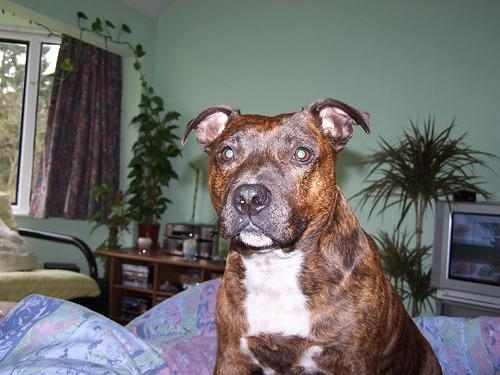dog-staffordshire_bull_terrier: (179, 96, 368, 246)
